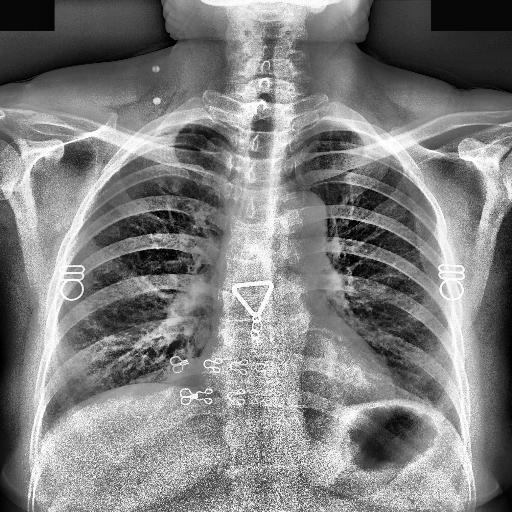0- Aortic enlargement: (272, 190, 330, 256), (266, 188, 330, 244), (272, 190, 324, 238)
